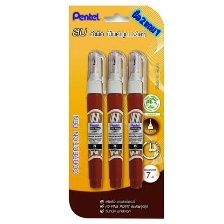book: (65, 2, 167, 220)
correction_fluid: (104, 48, 128, 191), (84, 48, 108, 190), (125, 48, 147, 191)
